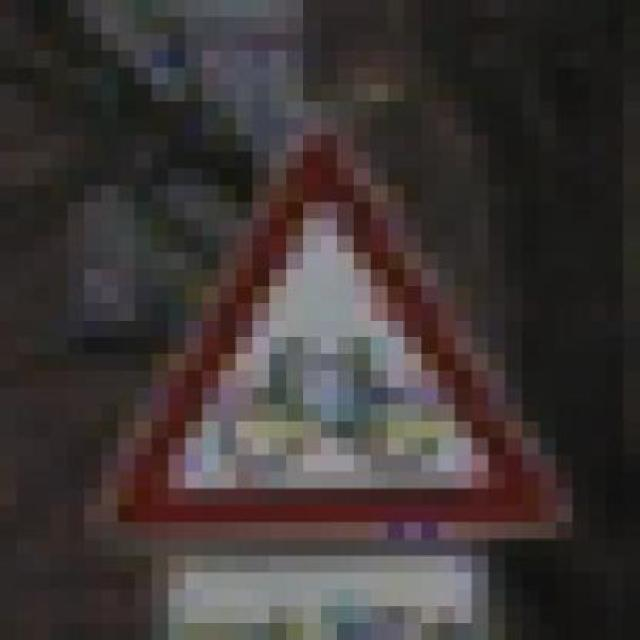CYCLE ROUTE AHEAD WARNING: (67, 101, 607, 556)
